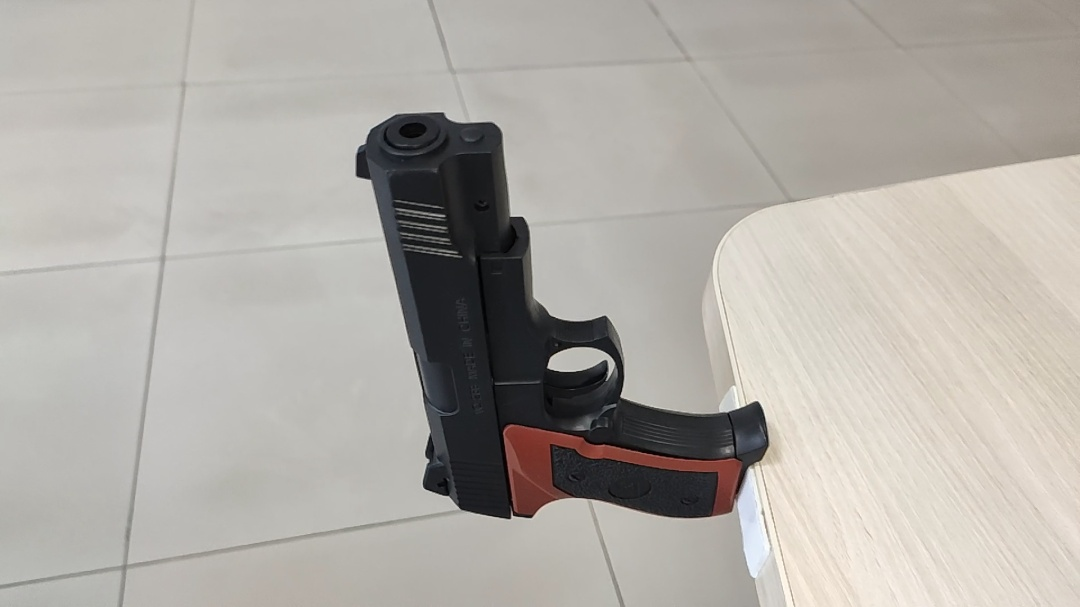gun: (589, 320, 628, 355)
